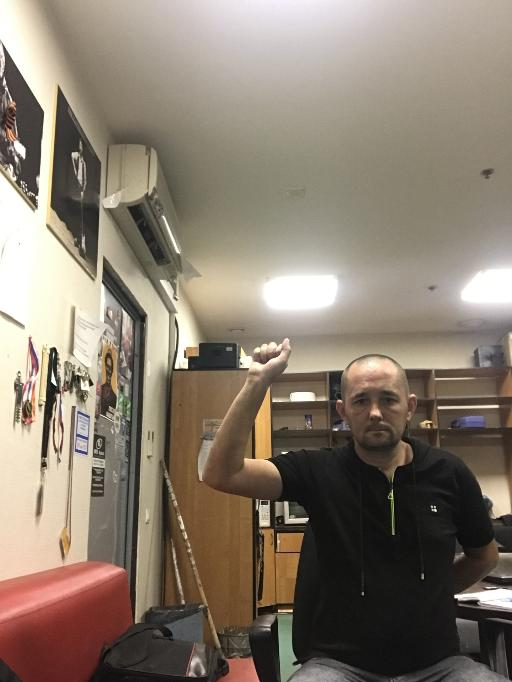fist: (247, 336, 292, 385)
